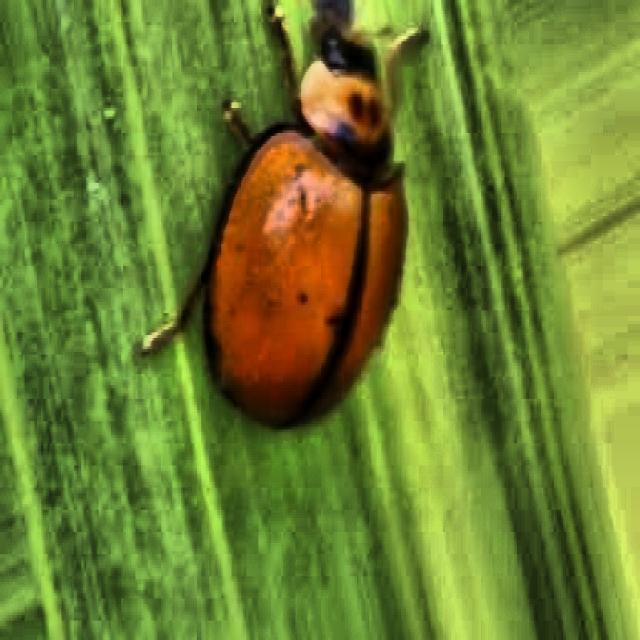Ladybug: (116, 4, 454, 487)
